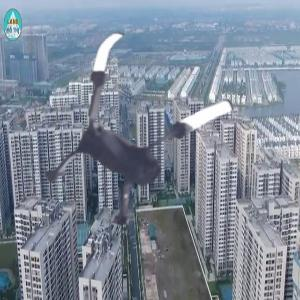drone: (23, 29, 248, 254)
